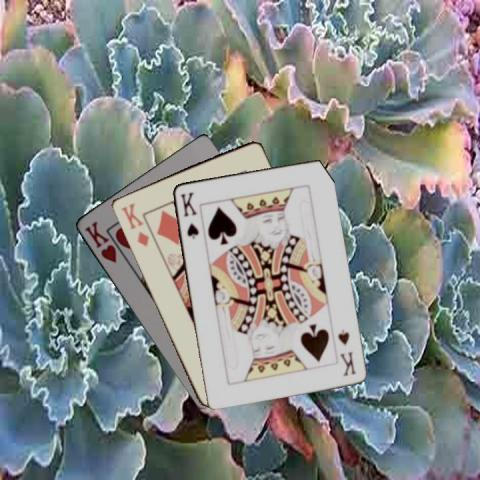Kd: (117, 200, 150, 248)
Kh: (81, 218, 118, 265)
Ks: (334, 326, 357, 377), (178, 188, 199, 241)
